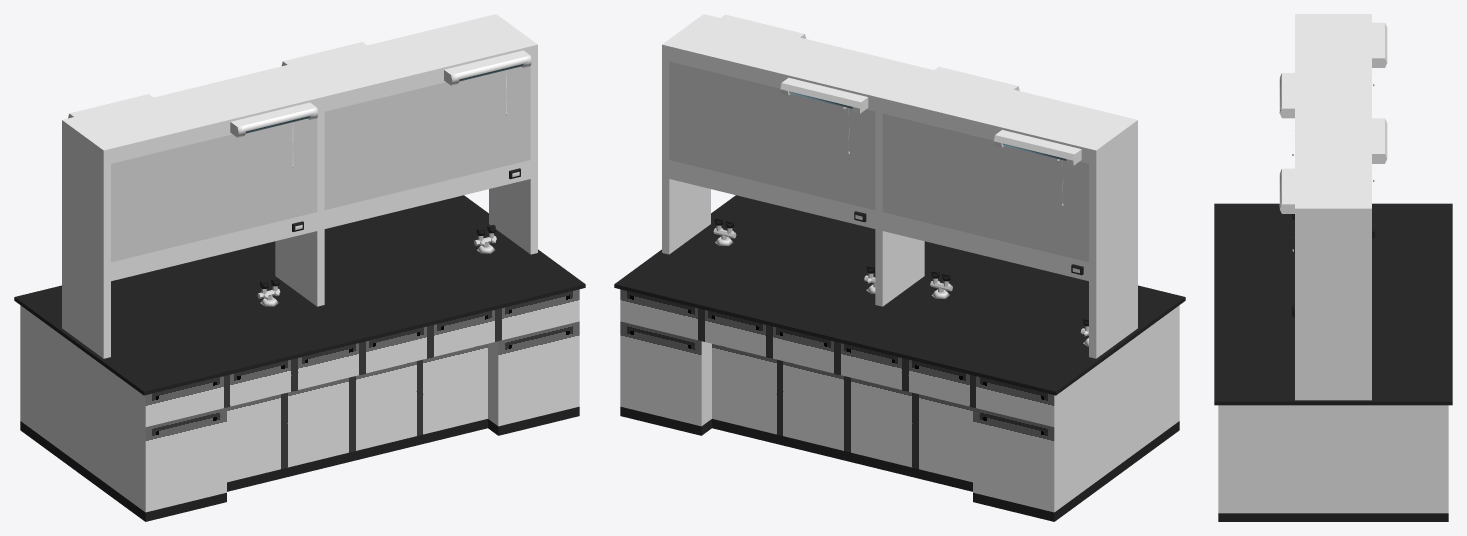
Rendered from jikkendai.fbx.
3 views of the same model, side by side, from view 1: azimuth 30°, elevation 25°; view 2: azimuth 150°, elevation 25°; view 3: azimuth 270°, elevation 25° (orthographic). The views are drawn at different scales.
Parts seen in each view (by area): view 1: table, tana, light, gas; view 2: table, tana, light, gas; view 3: table, tana, light.
Part boxes in pixels (x1=…): table: x1=14, y1=195, x2=585, y2=521; tana: x1=62, y1=14, x2=537, y2=358; light: x1=68, y1=42, x2=531, y2=167; gas: x1=257, y1=224, x2=496, y2=306; table: x1=614, y1=195, x2=1185, y2=521; tana: x1=662, y1=14, x2=1137, y2=358; light: x1=721, y1=14, x2=1081, y2=205; gas: x1=713, y1=217, x2=1088, y2=346; table: x1=1214, y1=203, x2=1452, y2=521; tana: x1=1295, y1=14, x2=1371, y2=400; light: x1=1279, y1=22, x2=1387, y2=251.
Size of the model in its own units: 244 by 180 by 124.
Materials: 7 (1 with a texture image).
